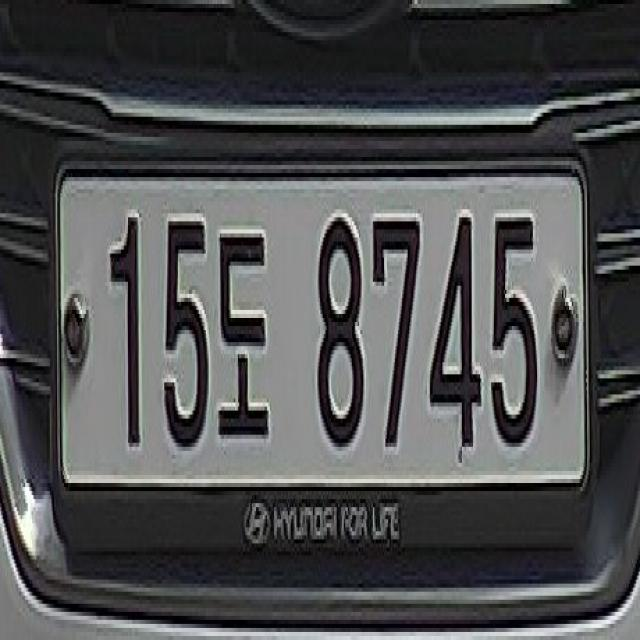1: (104, 193, 152, 467)
4: (424, 197, 487, 467)
5: (487, 193, 545, 463), (160, 193, 216, 471)
7: (367, 189, 422, 467)
8: (313, 193, 367, 467)
do: (216, 197, 276, 467)
license_plate: (47, 137, 598, 559)
